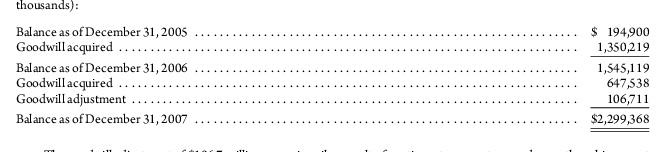table: (0, 0, 663, 152)
